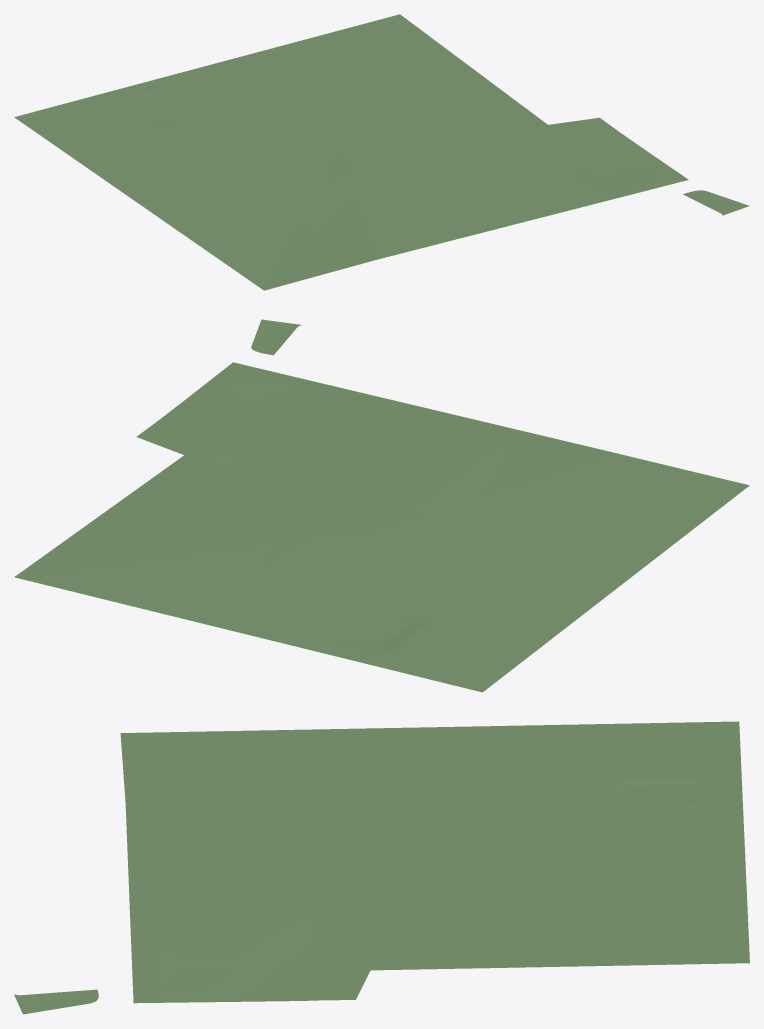
The model's file is c_1634_17819_parks.glb.
3 views of the same model, one above another, from view 1: azimuth 30°, elevation 25°; view 2: azimuth 150°, elevation 25°; view 3: azimuth 270°, elevation 25° (orthographic). The views are drawn at different scales.
Parts seen in each view (by area): view 1: geometry_0; view 2: geometry_0; view 3: geometry_0.
Part boxes in pixels (box(x1,y1,x2,y2)): geometry_0: box(14, 14, 749, 290); geometry_0: box(14, 319, 749, 692); geometry_0: box(14, 721, 749, 1014).
Size of the model in its own units: 180 by 2.8 by 191.
